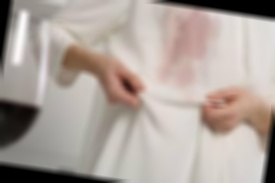wine: (150, 9, 220, 89)
